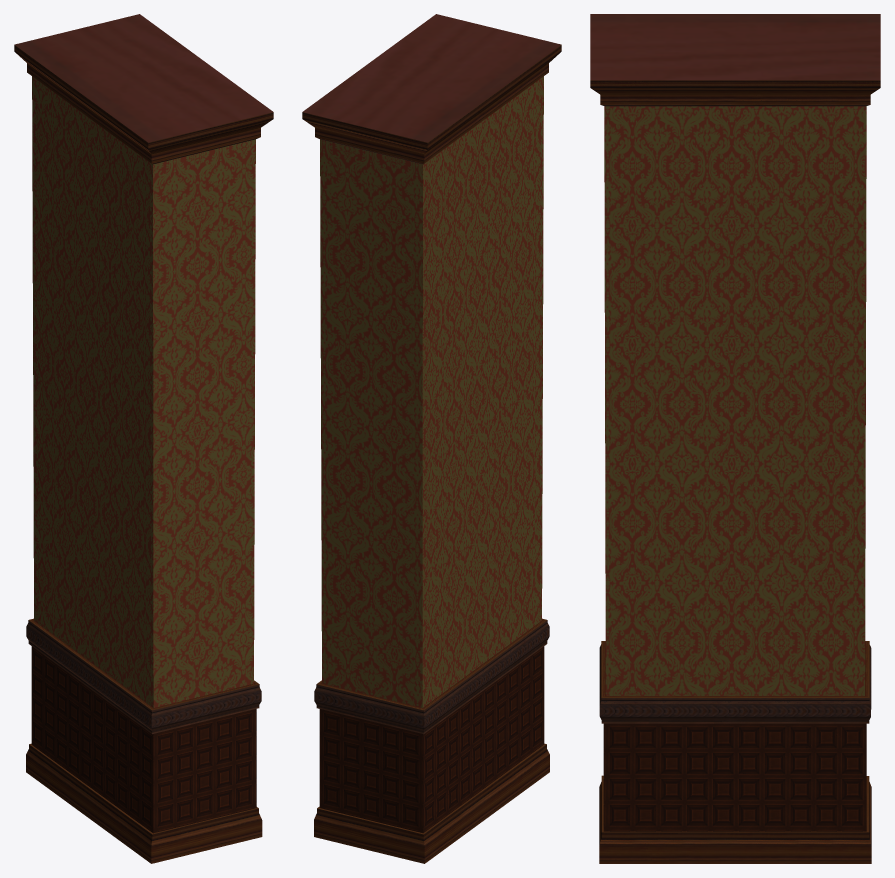
File: Wall_DinningRoom_Box.fbx
3 views of the same model, side by side, from view 1: azimuth 30°, elevation 25°; view 2: azimuth 150°, elevation 25°; view 3: azimuth 270°, elevation 25° (orthographic). The views are drawn at different scales.
Parts seen in each view (by area): view 1: Wall_DiningRoom_Cube; view 2: Wall_DiningRoom_Cube; view 3: Wall_DiningRoom_Cube.
Boxes of the visible parts, box(x1,y1,x2,y2) form: Wall_DiningRoom_Cube: box(14, 14, 273, 863); Wall_DiningRoom_Cube: box(302, 14, 561, 863); Wall_DiningRoom_Cube: box(590, 14, 880, 863).
Size of the model in its own units: 111 by 611 by 205.
